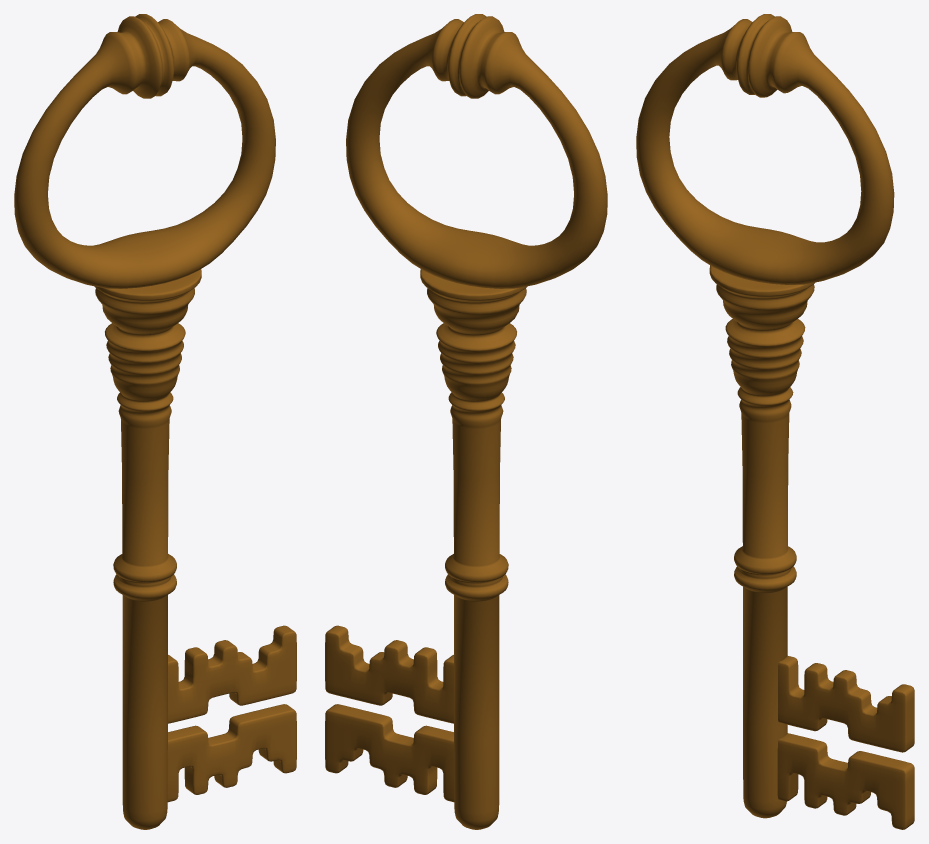
Rendered from Old_Key.obj.
The picture shows the model from 3 angles, left to right: view 1: azimuth 30°, elevation 25°; view 2: azimuth 150°, elevation 25°; view 3: azimuth 330°, elevation 25°; orthographic projection.
Visible parts, largest first — view 1: Cylinder; view 2: Cylinder; view 3: Cylinder.
Part boxes in pixels (x1,y1,x2,y2): Cylinder: (14,14,296,829); Cylinder: (325,14,607,829); Cylinder: (636,14,914,829).
Size of the model in its own units: 0.3564 by 0.9991 by 0.1267.
